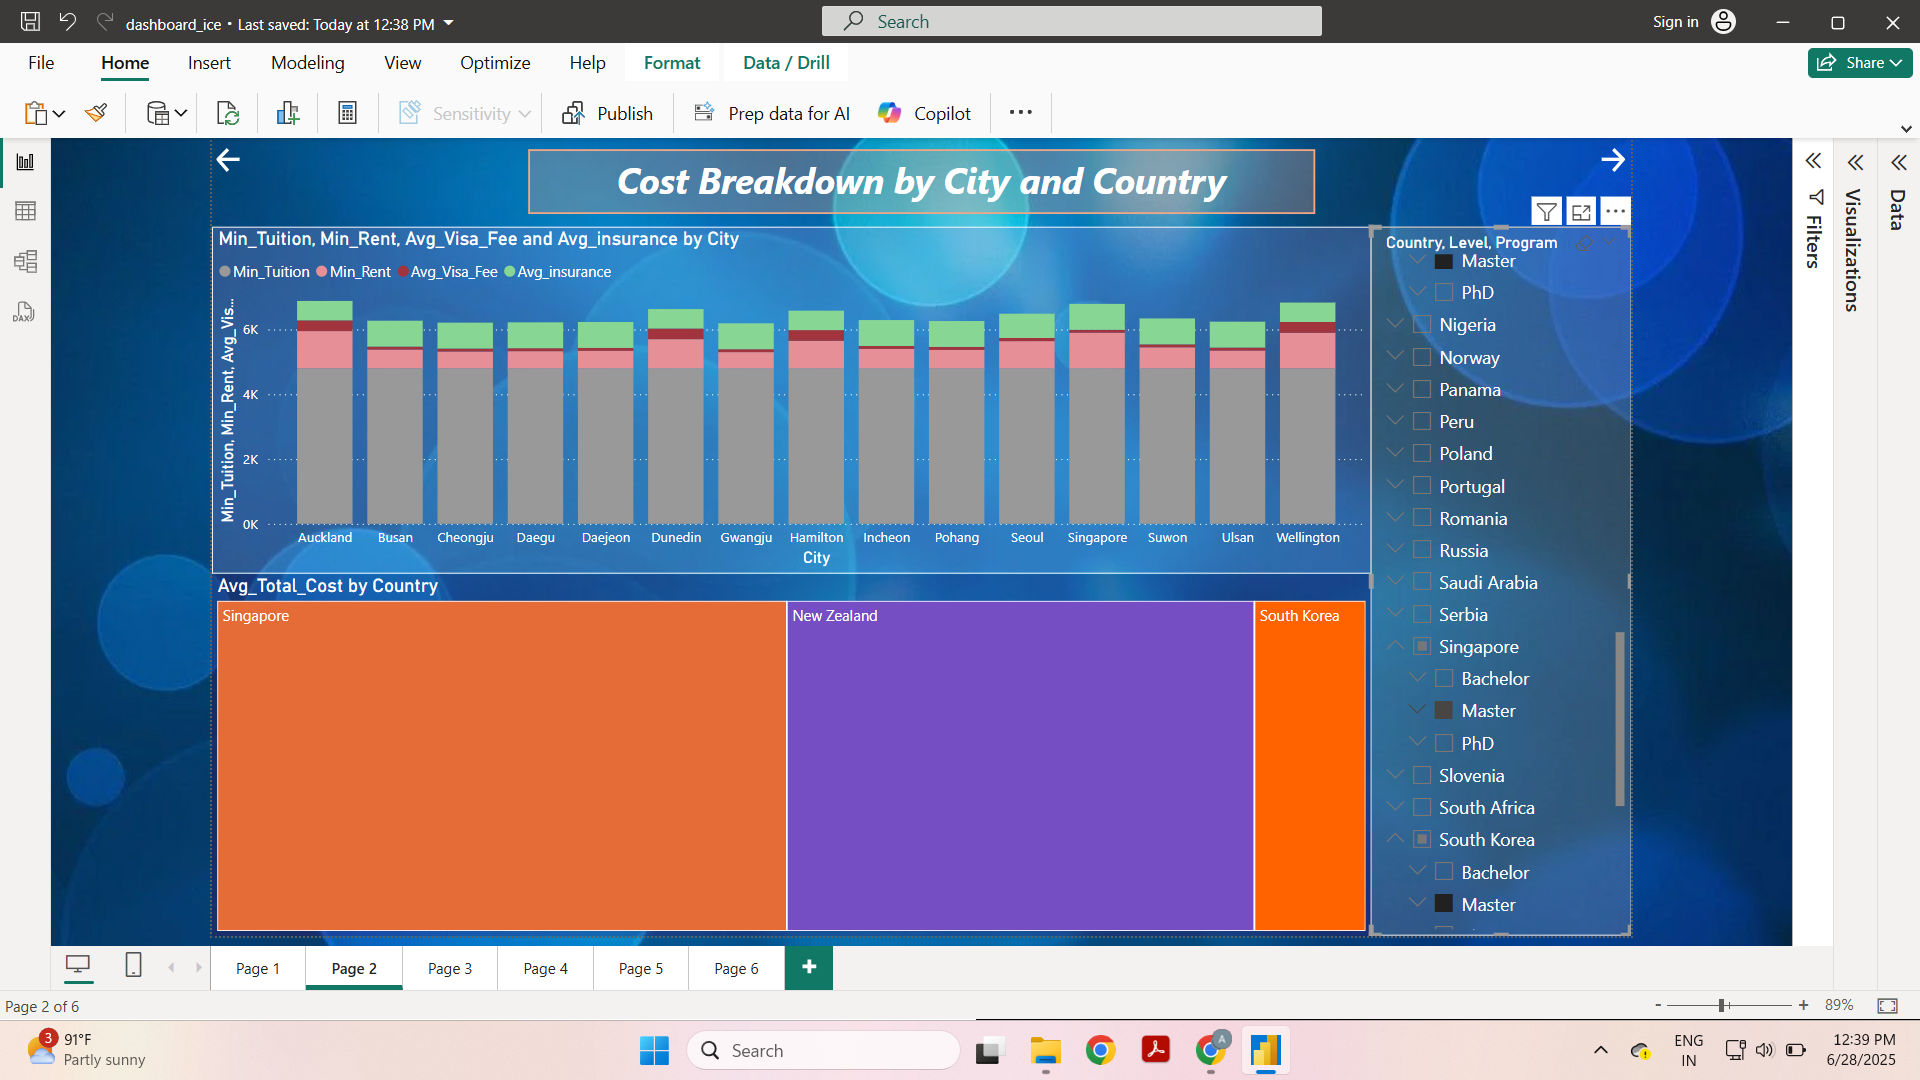

Layout of this report page (visuals, bound fields, positions):
{"tool":"powerbi","page":{"name":"Page 2","canvas":[1280,720],"ordinal":1},"visuals":[{"type":"columnChart","fields":{"Category":["international ed costs.City"],"Y":["international ed costs.Min_Tuition","international ed costs.Min_Rent","international ed costs.Avg_Visa_Fee","international ed costs.Avg_insurance"]},"box":[0,80.2,1045.4,312.8],"z":0},{"type":"treemap","fields":{"Group":["international ed costs.Country"],"Values":["international ed costs.Avg_Total_Cost"]},"box":[0,393,1045.4,326.7],"z":1000},{"type":"slicer","fields":{"Values":["international ed costs.Country","international ed costs.Level","international ed costs.Program"]},"box":[1045.4,80.2,234.9,639.5],"z":2000},{"type":"actionButton","box":[1247.7,0,30.2,39.5],"z":3000},{"type":"actionButton","box":[0,0,30.2,39.5],"z":4000},{"type":"textbox","box":[284.9,10.5,709.3,58.1],"z":5000}]}

Visuals, with their boxes on the page's 1280x720 design canvas (x1, y1, x2, y2). These are canvas units, not pixel positions in the 1920x1080 screenshot, which may show the page scaled, cropped or inside an application window:
columnChart - international ed costs.City x international ed costs.Min_Tuition: l=0, t=80, r=1045, b=393
treemap - international ed costs.Country x international ed costs.Avg_Total_Cost: l=0, t=393, r=1045, b=720
slicer - international ed costs.Country x international ed costs.Level: l=1045, t=80, r=1280, b=720
actionButton: l=1248, t=0, r=1278, b=40
actionButton: l=0, t=0, r=30, b=40
textbox: l=285, t=10, r=994, b=69
